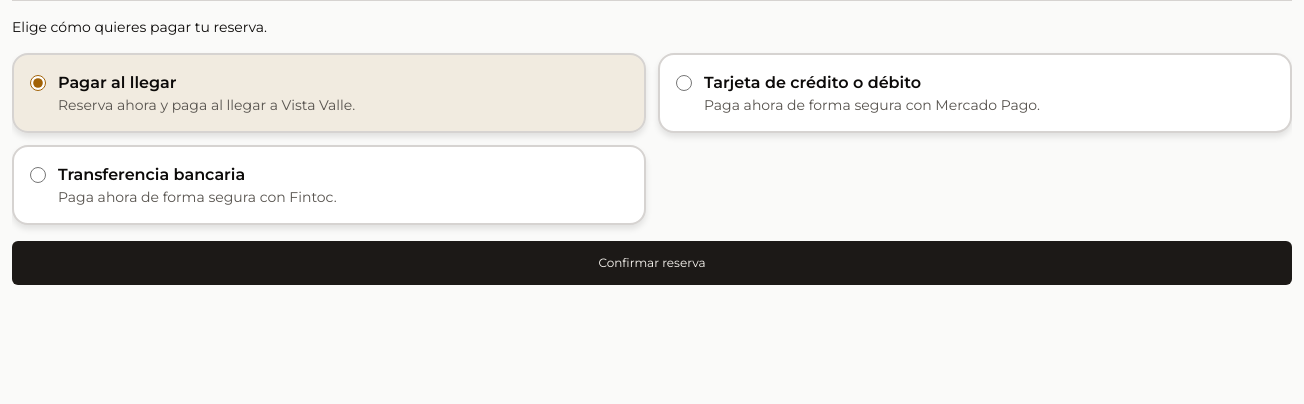
Test: BookingConfirmationController › uses a safe Spanish fallback when the public request fails unexpectedly
Click the button "Confirmar reserva": point(652, 263) 12,241 -> 1292,285
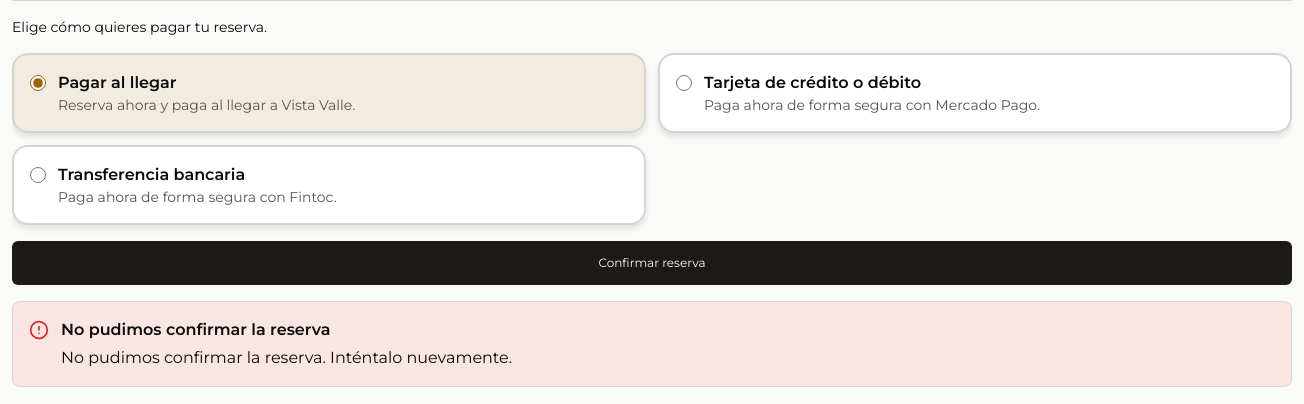
expect the text "No pudimos confirmar la reserva. Inténtalo nuevamente." is shown: met, box 61,346 -> 512,370
